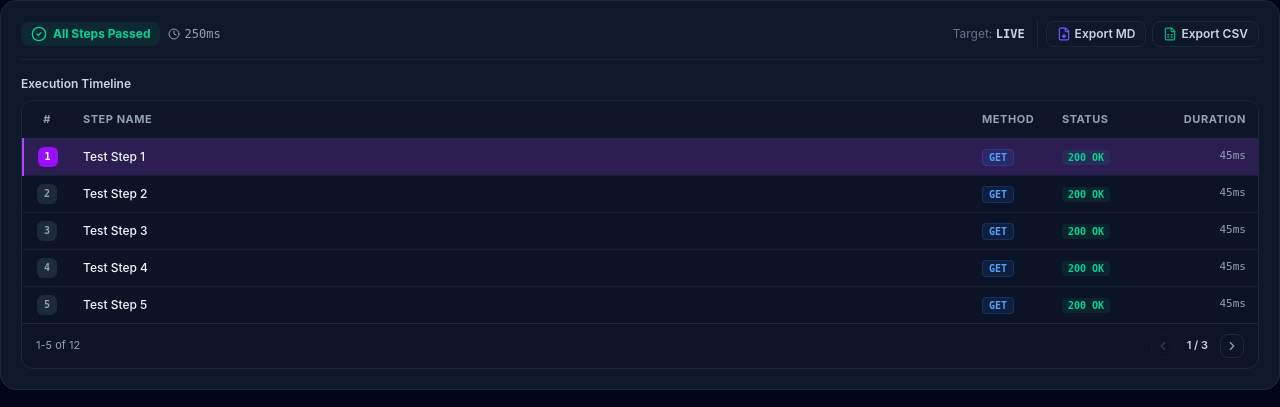
Test case: FlowExecutionPanel Table & Pagination › navigates to next and previous pages when buttons are clicked
This screenshot has width=1280, height=407.
Go to page 2
Click the button named "Next": (1232, 346) [1220, 334, 1244, 358]
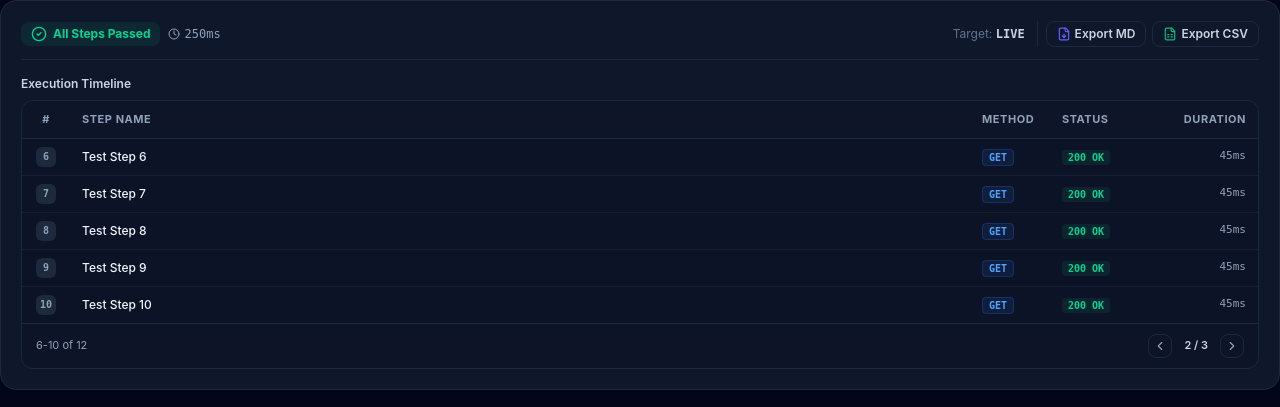
Result: the text "Test Step 6" is shown at [70, 138, 970, 175]
Result: the text "Test Step 10" is shown at [70, 286, 970, 322]
Go to page 3
Click the button named "Next": (1232, 346) [1220, 334, 1244, 358]
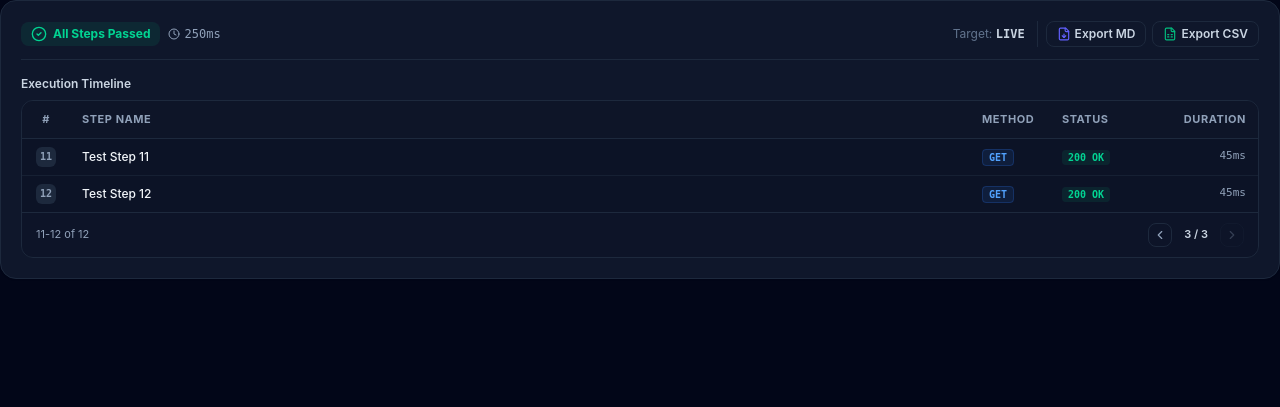
Result: the text "Test Step 11" is shown at [70, 138, 970, 175]
Result: the text "Test Step 12" is shown at [70, 175, 970, 212]
Go back to page 2
Click the button named "Previous": (1160, 234) [1148, 222, 1172, 246]
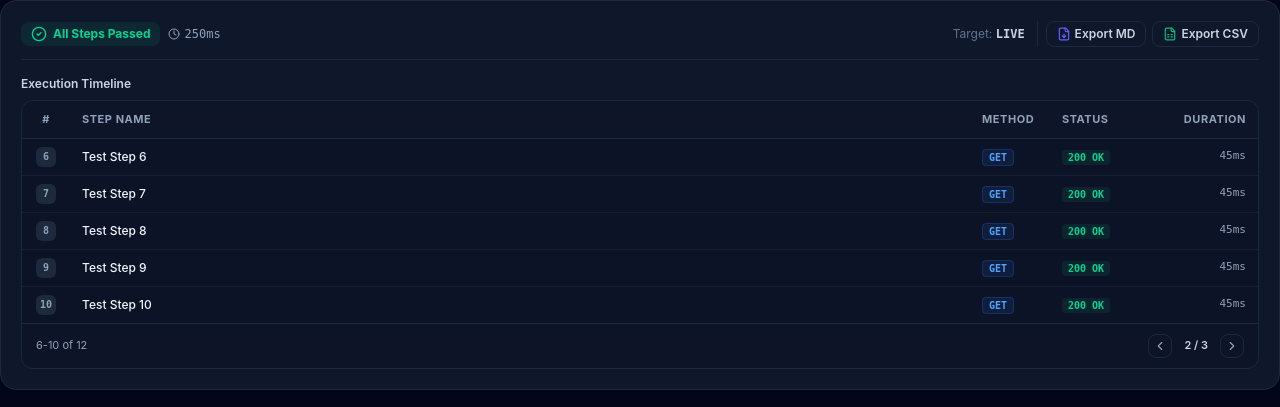
Result: the text "Test Step 6" is shown at [70, 138, 970, 175]
